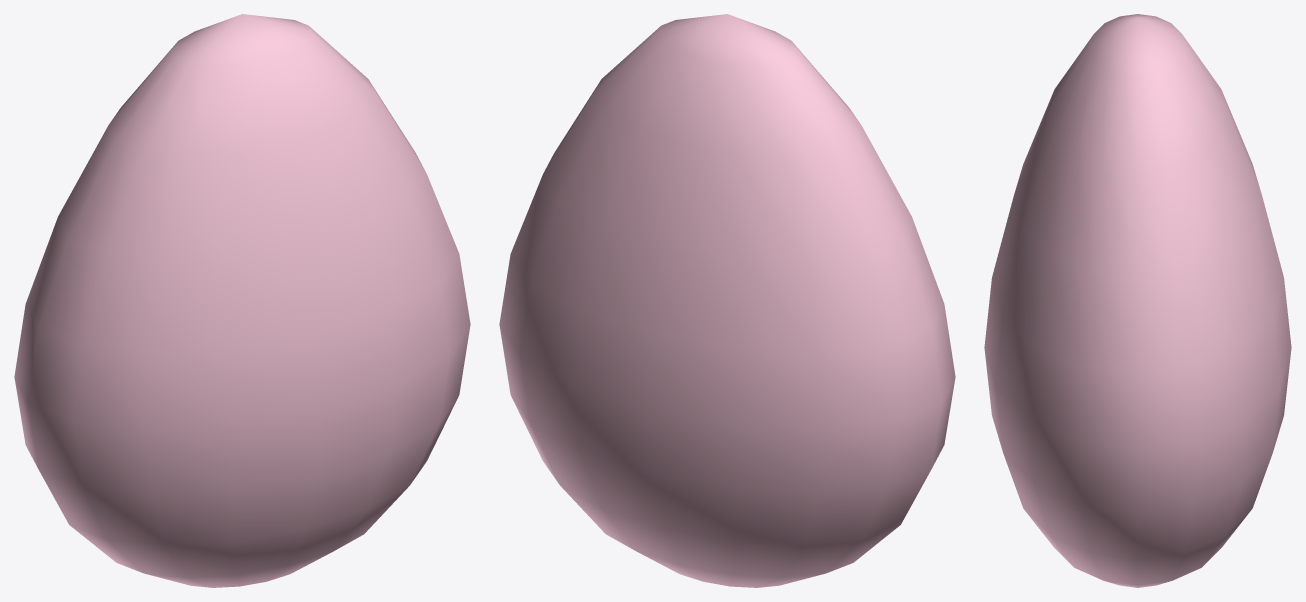
File: quartz.glb
The picture shows the model from 3 angles, left to right: view 1: azimuth 30°, elevation 25°; view 2: azimuth 150°, elevation 25°; view 3: azimuth 270°, elevation 25°; orthographic projection. The views are drawn at different scales.
Visible parts, largest first — view 1: Quartzo Chato.001; view 2: Quartzo Chato.001; view 3: Quartzo Chato.001.
Boxes of the visible parts, x1,y1,x2,y2 form: Quartzo Chato.001: [14, 14, 470, 587]; Quartzo Chato.001: [499, 14, 955, 587]; Quartzo Chato.001: [984, 14, 1291, 587].
Bounding box in the file's own units: 0.6 × 0.7502 × 0.3807.
